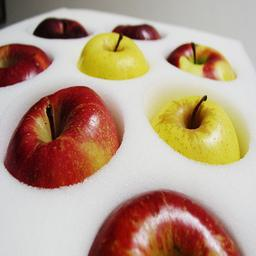apple: (3, 87, 121, 189), (89, 191, 246, 256), (149, 92, 243, 167), (77, 30, 150, 80), (165, 41, 236, 81), (1, 43, 51, 84)
